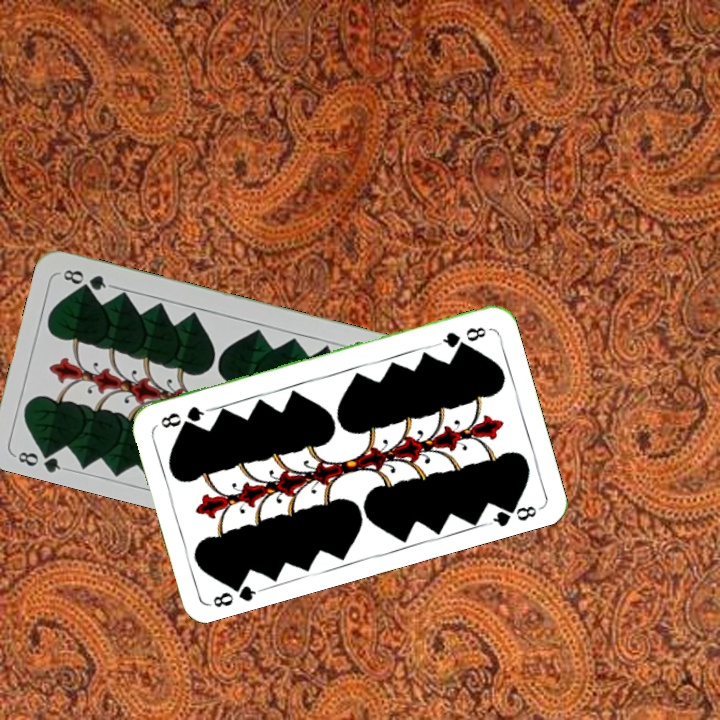G8: (206, 575, 264, 610), (11, 443, 69, 475), (434, 322, 489, 351)
